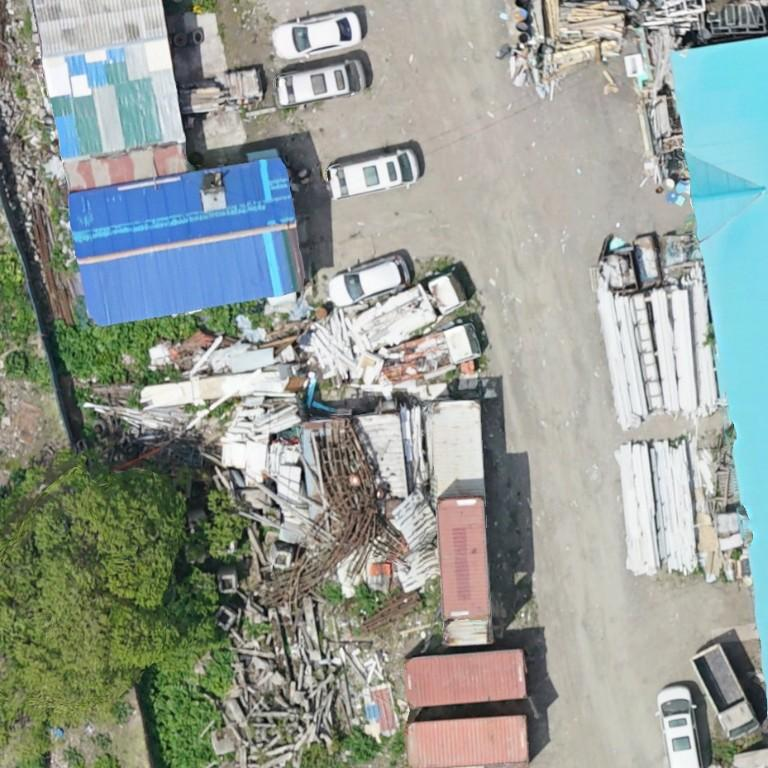hogweed: (140, 651, 232, 767), (52, 315, 196, 383), (207, 302, 255, 334), (346, 734, 377, 758)
